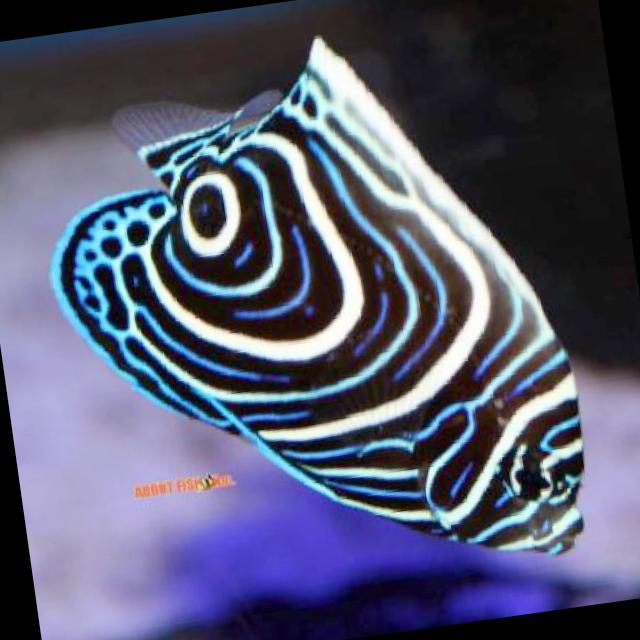AngelFish: (28, 7, 602, 621)
